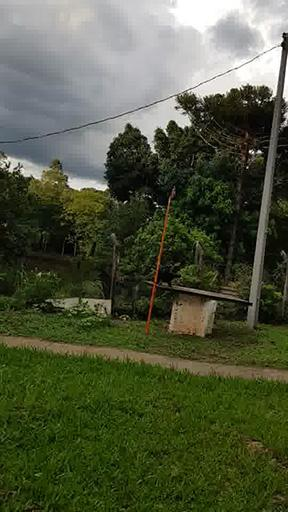Vara_Manobra: (145, 199, 171, 334)
